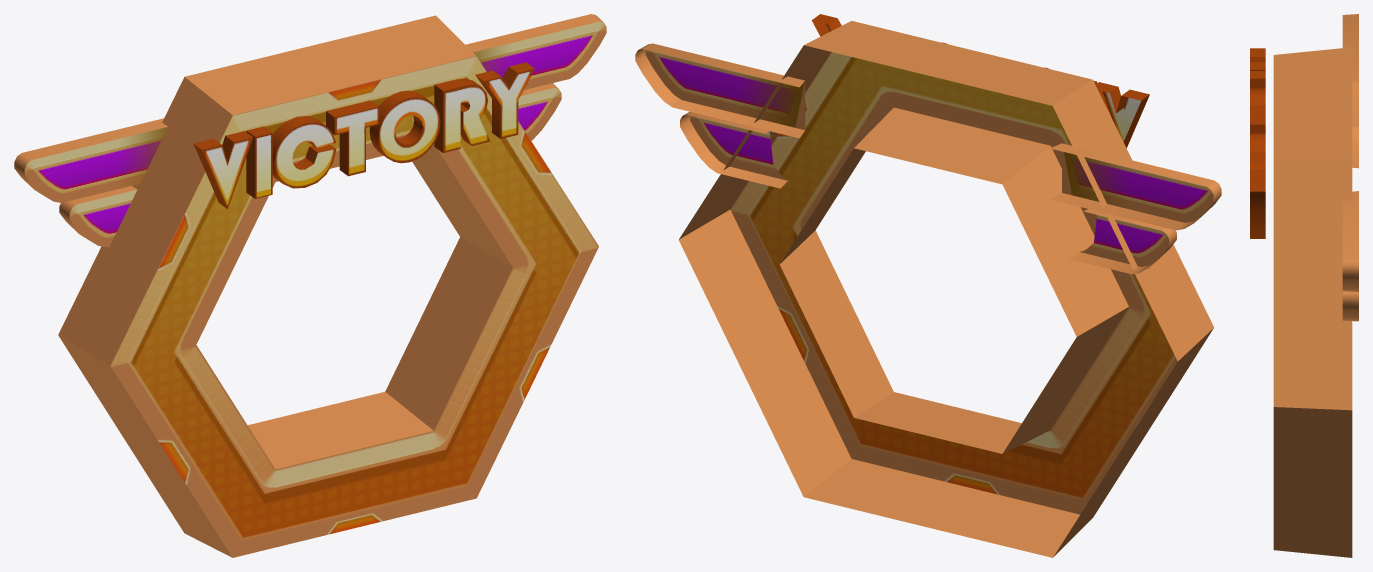
The model's file is zhongdian_01.FBX.
3 renders of one model, left to right at view 1: azimuth 30°, elevation 25°; view 2: azimuth 150°, elevation 25°; view 3: azimuth 270°, elevation 25°, orthographic. The views are drawn at different scales.
Visible parts, largest first — view 1: zhongdian_01; view 2: zhongdian_01; view 3: zhongdian_01.
Boxes of the visible parts, box(x1,y1,x2,y2) form: zhongdian_01: box(14, 14, 606, 557); zhongdian_01: box(635, 14, 1221, 557); zhongdian_01: box(1250, 14, 1358, 557).
Bounding box in the file's own units: 19300 × 14414 × 3527.
1 material, 1 textured.
